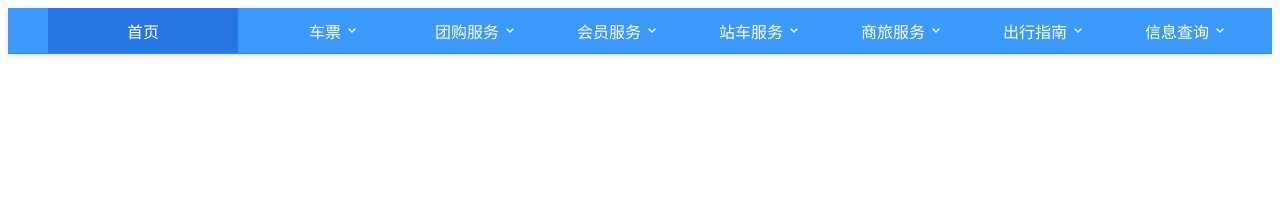
it: MainNavigation - 主导航栏组件 › 鼠标悬停在车票上应该显示下拉菜单
Expected: the text "单程" is not shown
Hover over the text "车票" at (333, 32), box [309, 24, 357, 40]
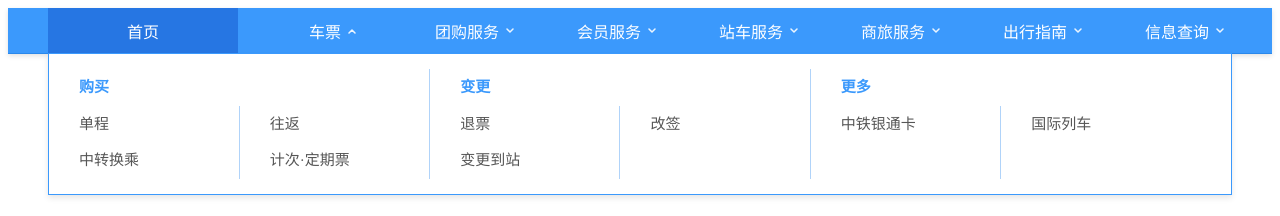
Expected: the link "单程" is shown, [79, 116, 109, 132]
